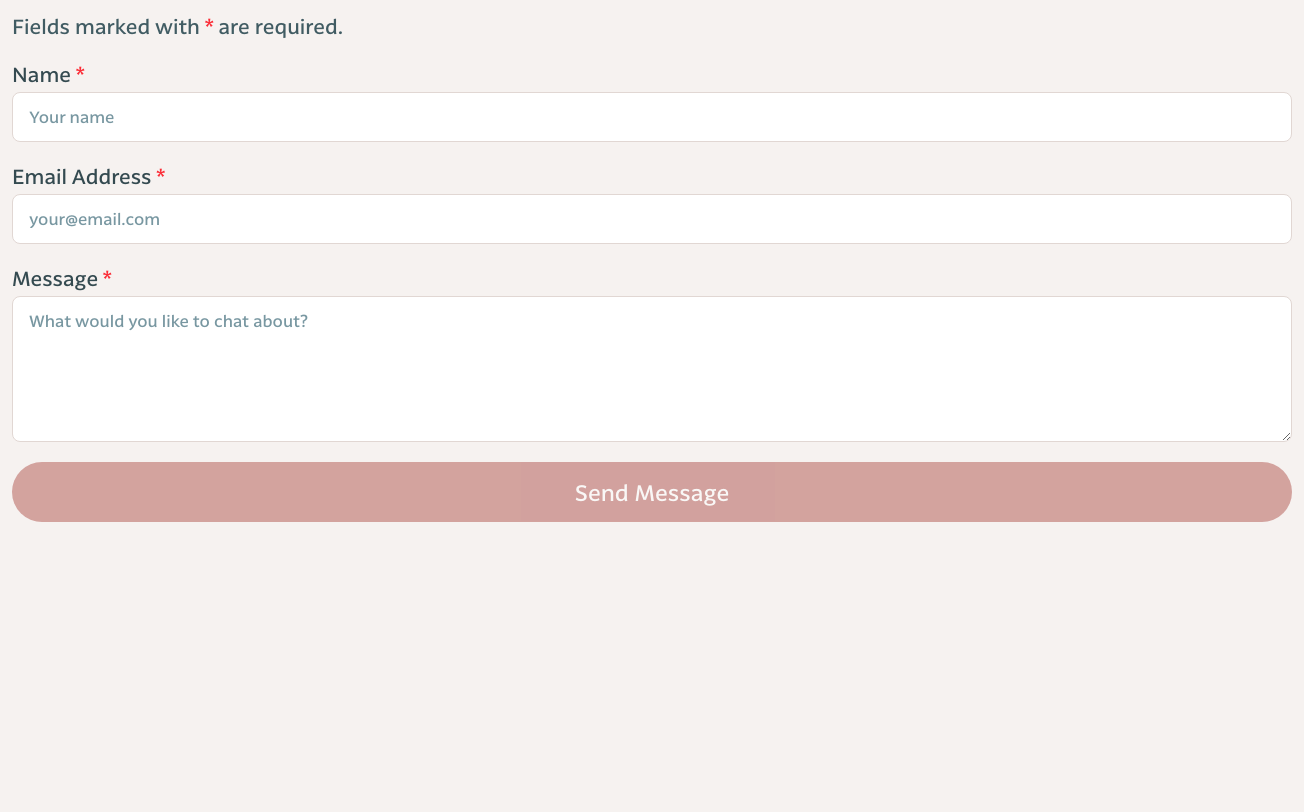
ContactForm › shows the API error message on a failed response
Type "Ada Lovelace" into the field labelled "Name *".
click(652, 117); type("Ada Lovelace")  # box [12,92,1292,142]
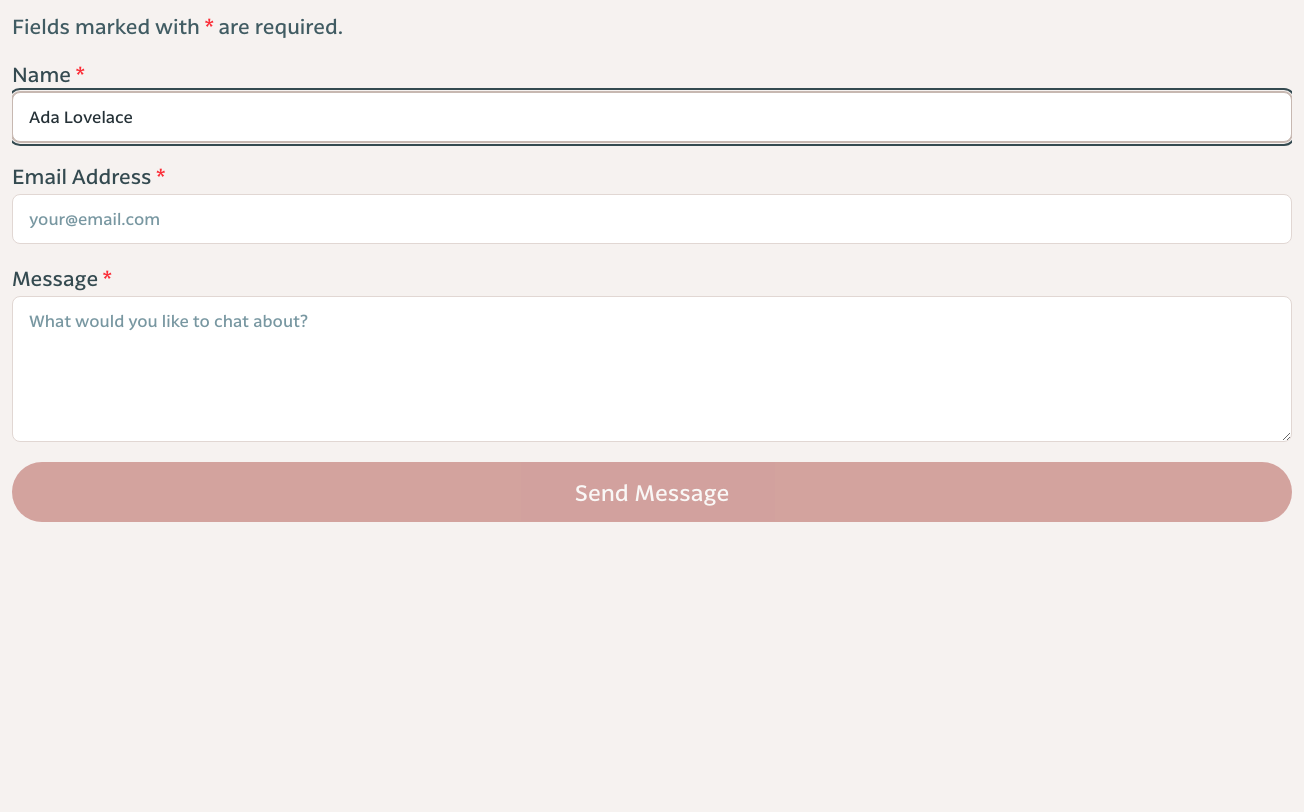
Type "ada@example.com" into the field labelled "Email Address *".
click(652, 219); type("ada@example.com")  # box [12,194,1292,244]
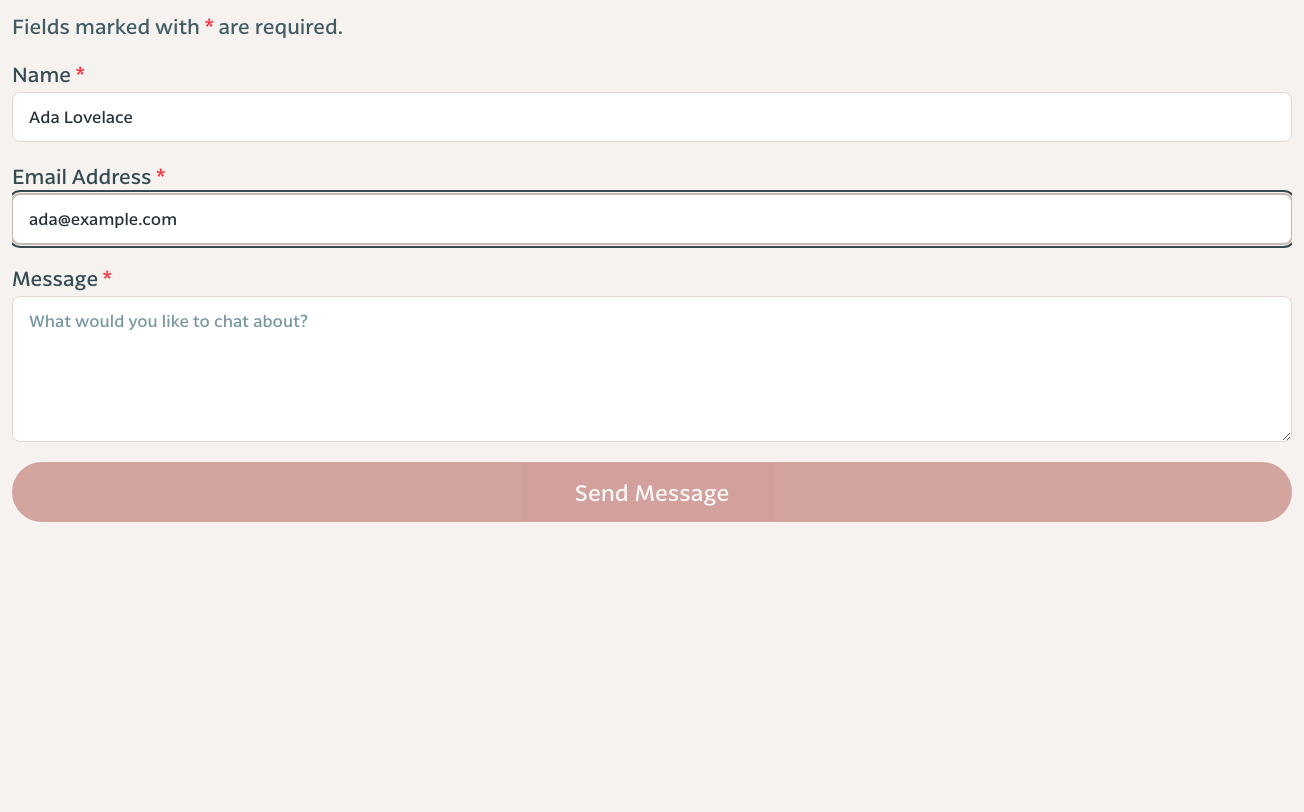
Type "Hello there" into the text box labelled "Message *".
click(652, 369); type("Hello there")  # box [12,296,1292,442]
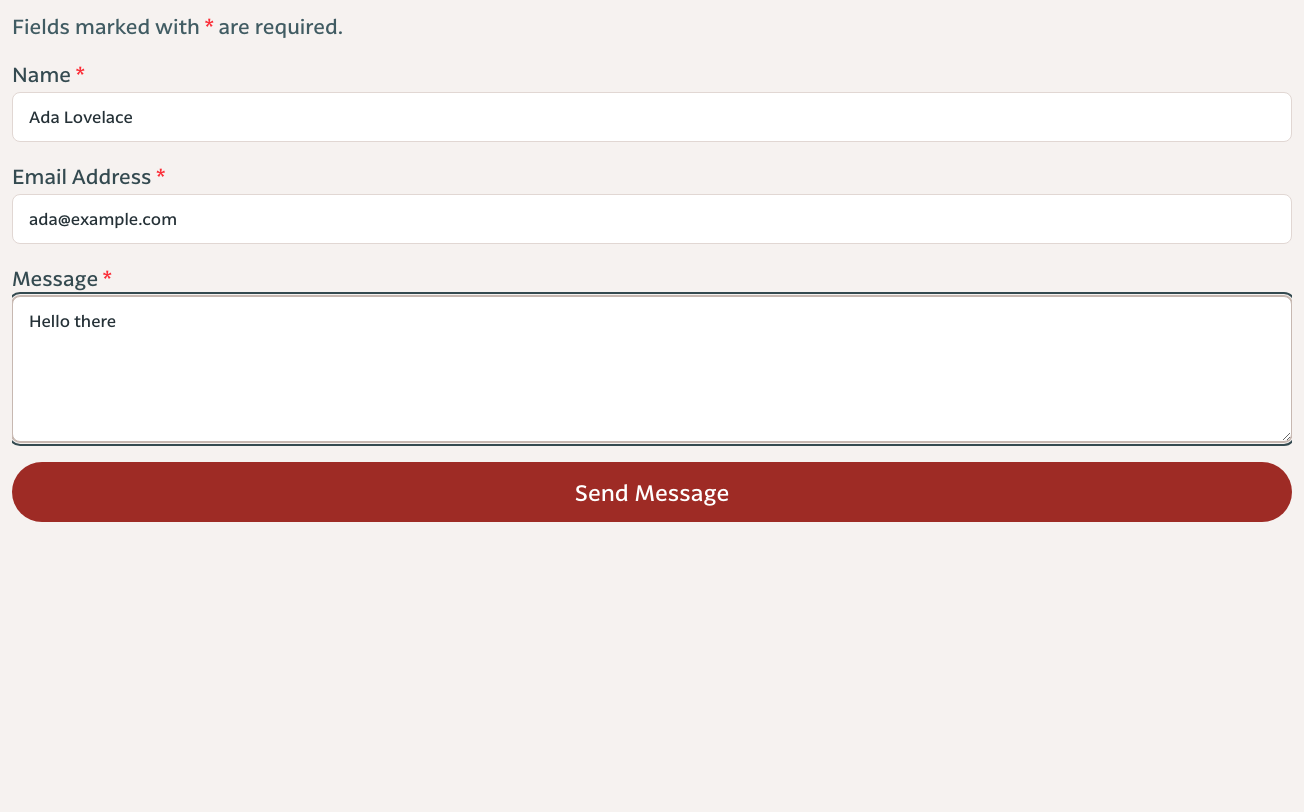
Click the button "Send Message".
click(652, 492)  # box [12,462,1292,522]
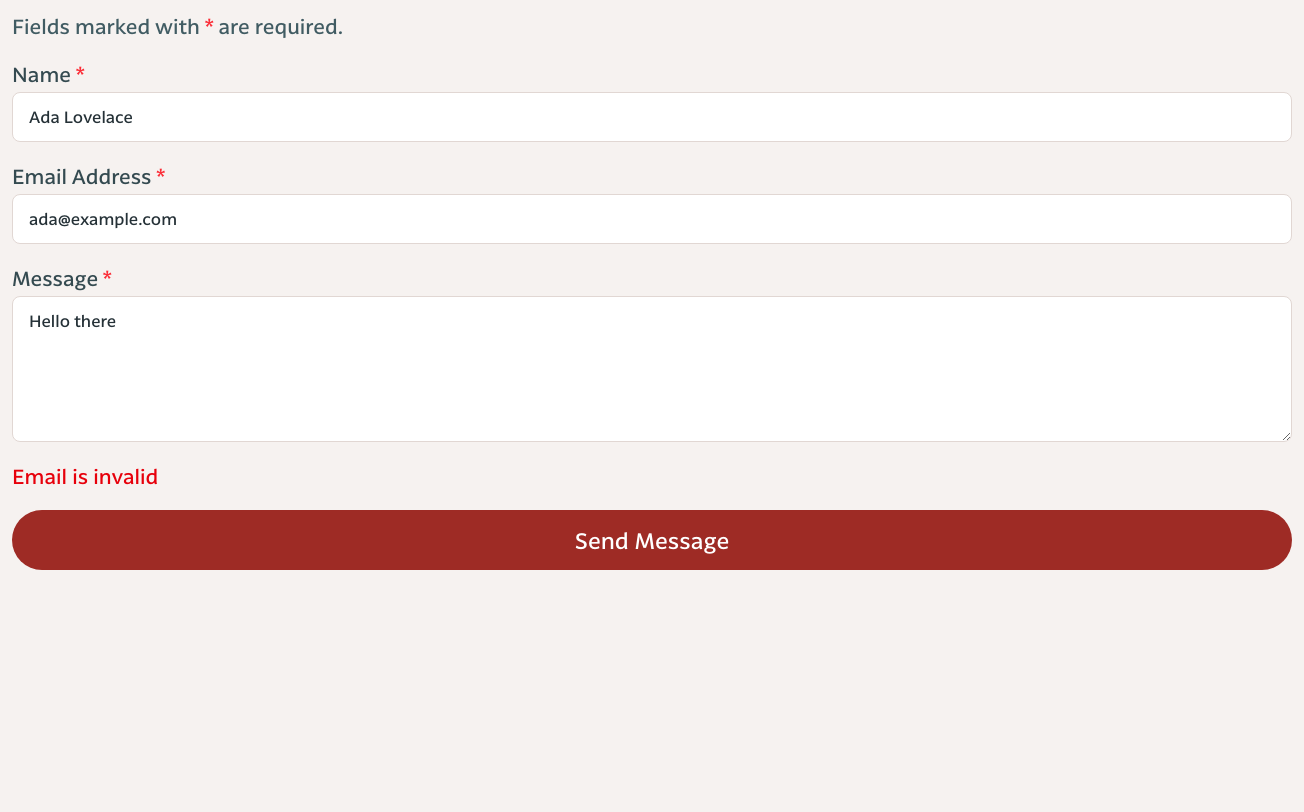
Check: the button "Send Message" is enabled, box [12,510,1292,570]
Check: the text "Email is invalid" is shown, box [12,464,158,488]
